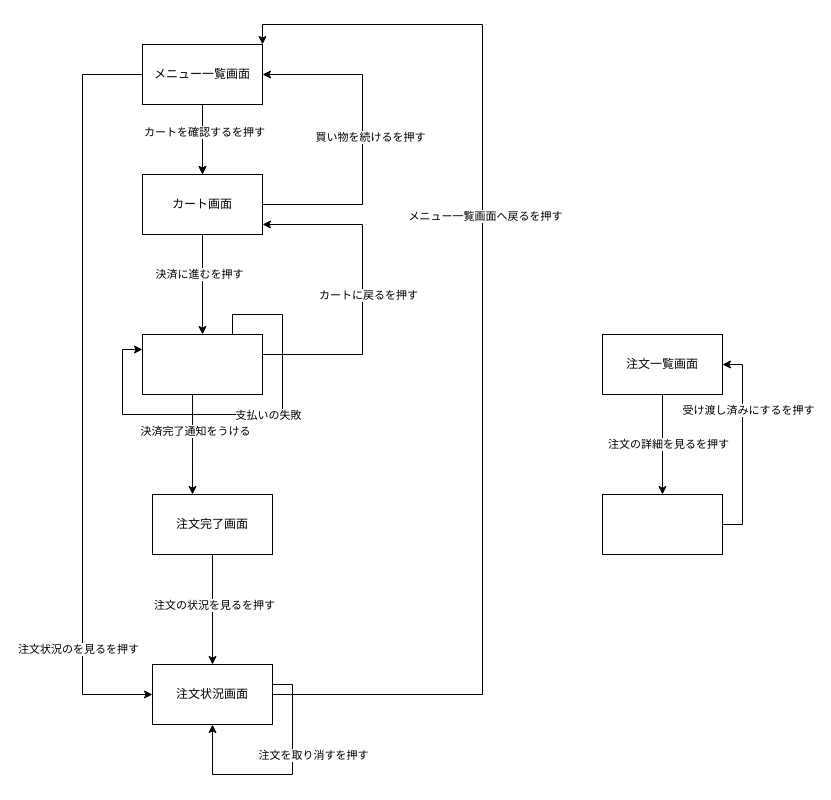
Image size: 831x800. Some labels were removed from this diagram. The centre of each missing label's shape, as x and y in pixels:
"支払いの画面" goes at [202,364].
"注文詳細画面" goes at [662,524].
